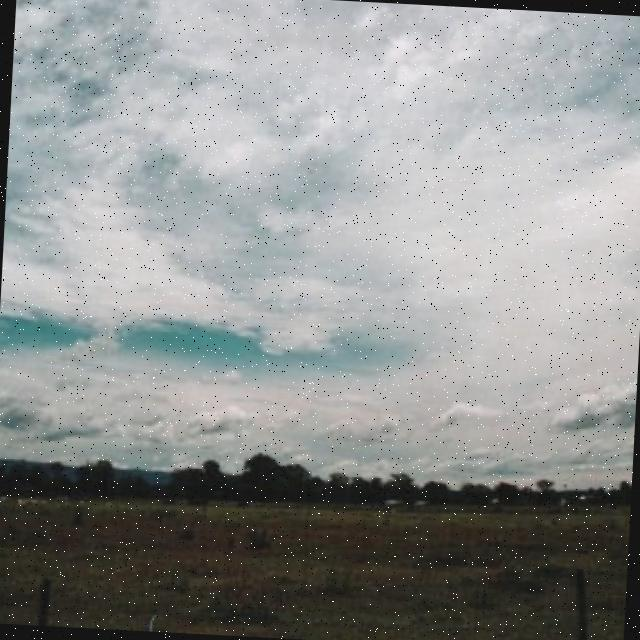Cs: (1, 1, 640, 454)
